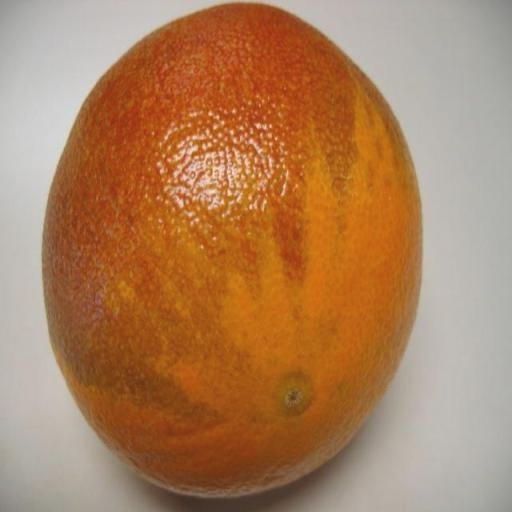fruit: (43, 4, 420, 495)
